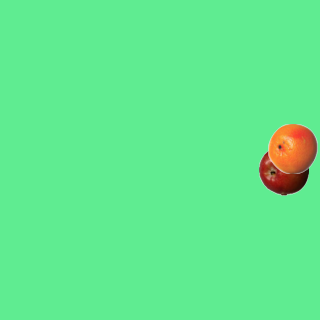Apple Braeburn: (258, 145, 308, 195)
Grapefruit Pink: (267, 123, 317, 173)
